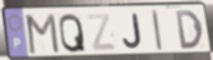D: (174, 9, 205, 51)
I: (150, 9, 164, 53)
J: (121, 13, 143, 50)
M: (25, 12, 61, 56)
Q: (58, 12, 88, 54)
Z: (85, 12, 119, 52)
